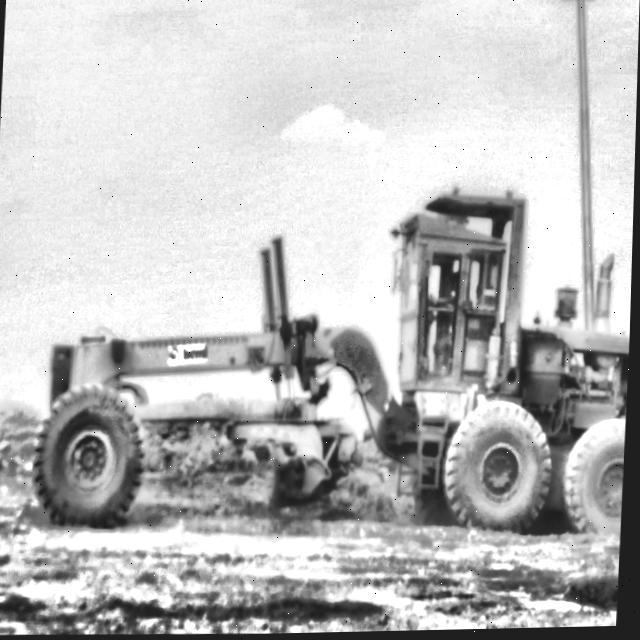buldozerpayloadergrader: (36, 194, 631, 538)
